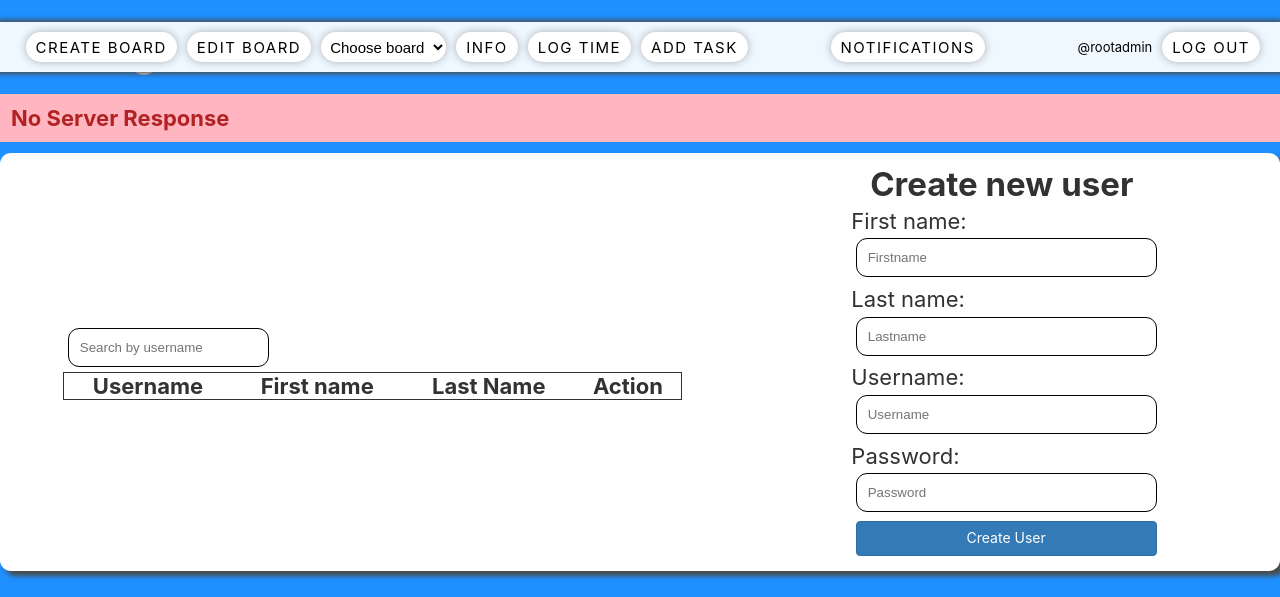
Test case: AdminPage › Try to create user with password less then 8 characters
Type "anton" into the field with test id "usernameInput". click: (1006, 414)
box: [856, 395, 1156, 434]
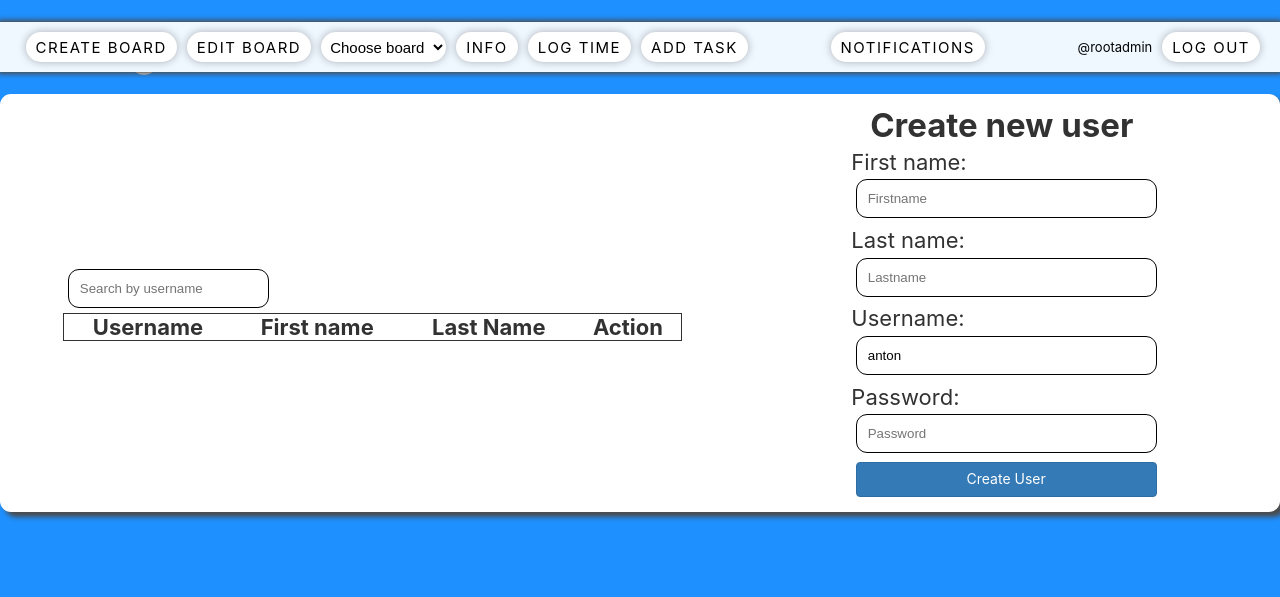
Type "Ivan" into the field with test id "FirstInput". click: (1006, 199)
box: [856, 179, 1156, 218]
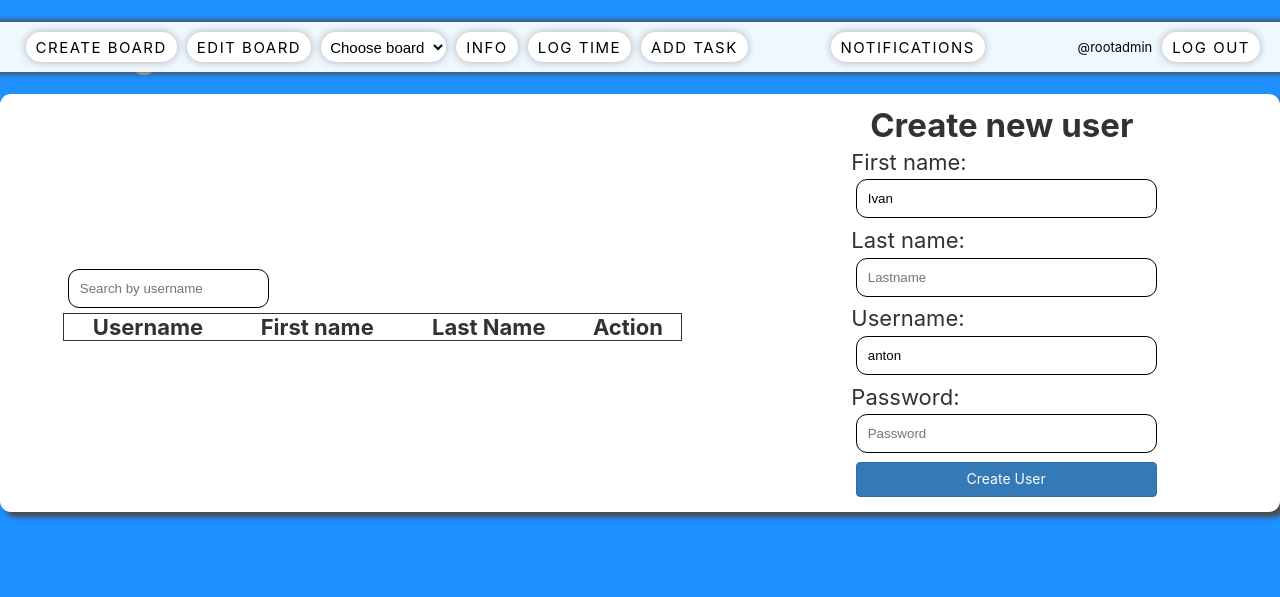
Type "Purin" into the field with test id "LastInput". click: (1006, 277)
box: [856, 258, 1156, 296]
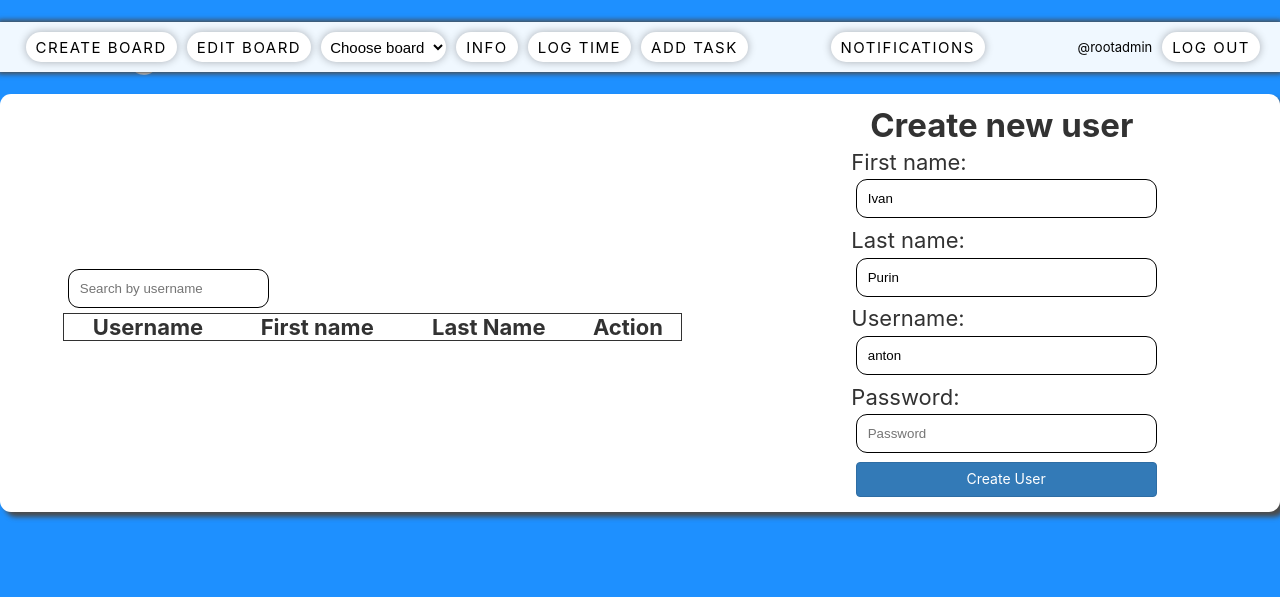
Type "123" into the field with test id "PasswordInput". click: (1006, 433)
box: [856, 414, 1156, 453]
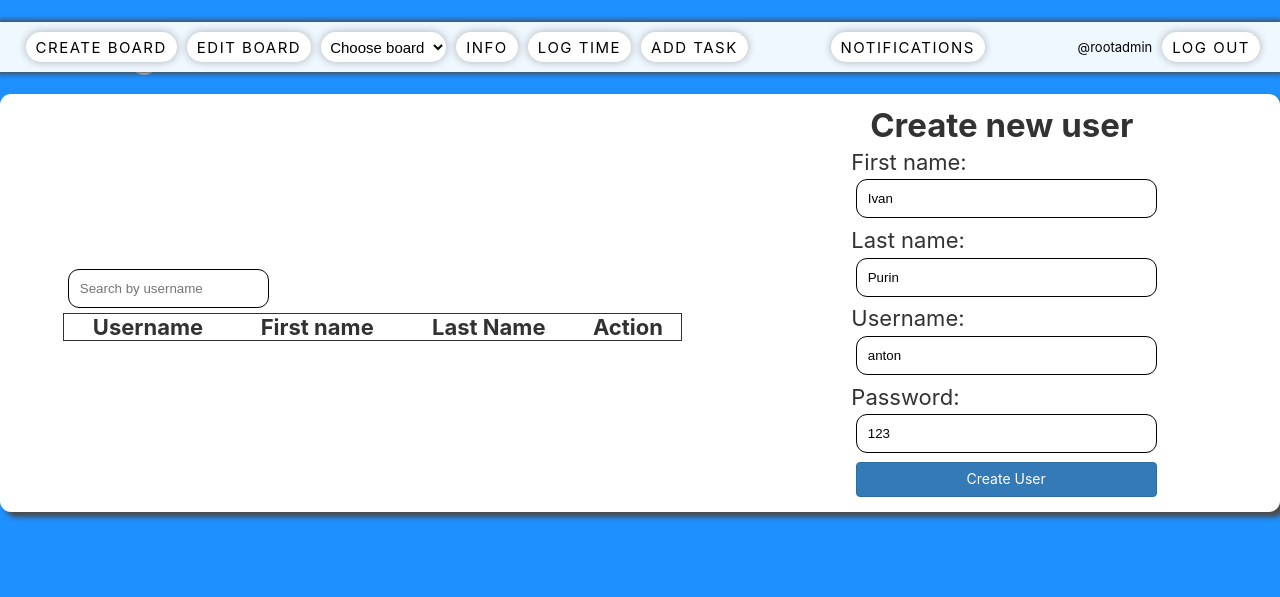
Click the button "Create User". click: (1006, 479)
box: [856, 462, 1156, 497]
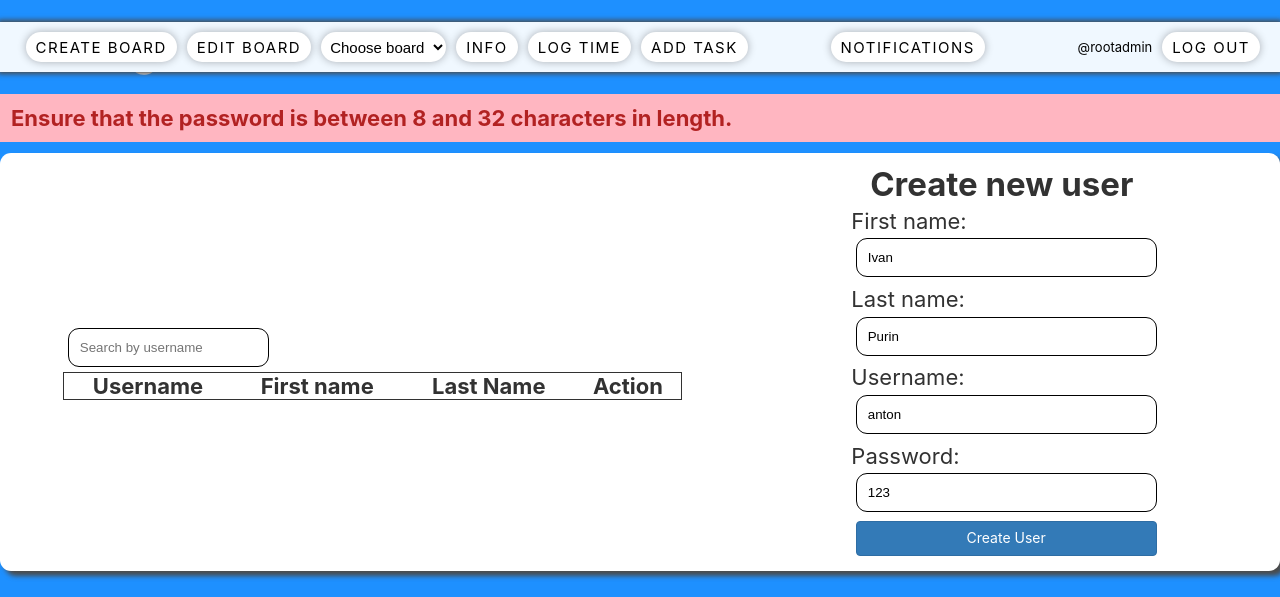
Check: the text "Ensure that the password is between 8 and 32 characters in length." is shown, box [0, 94, 1279, 142]
